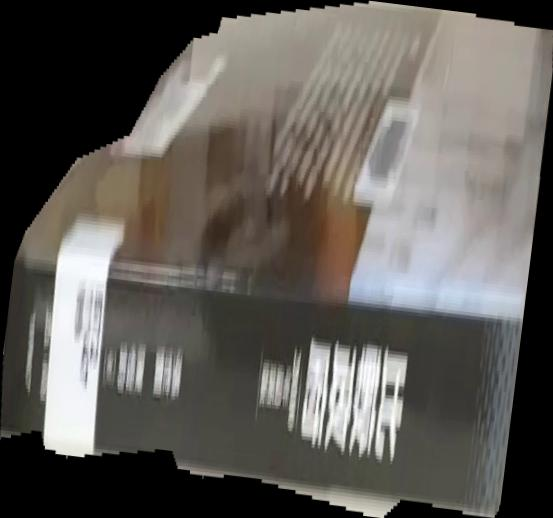flat: (1, 1, 553, 518)
